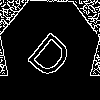D: (25, 23, 82, 81)
